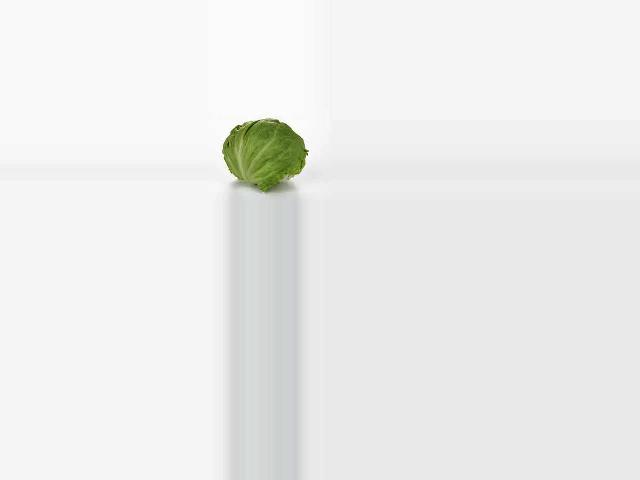lettuce: (217, 117, 310, 181)
